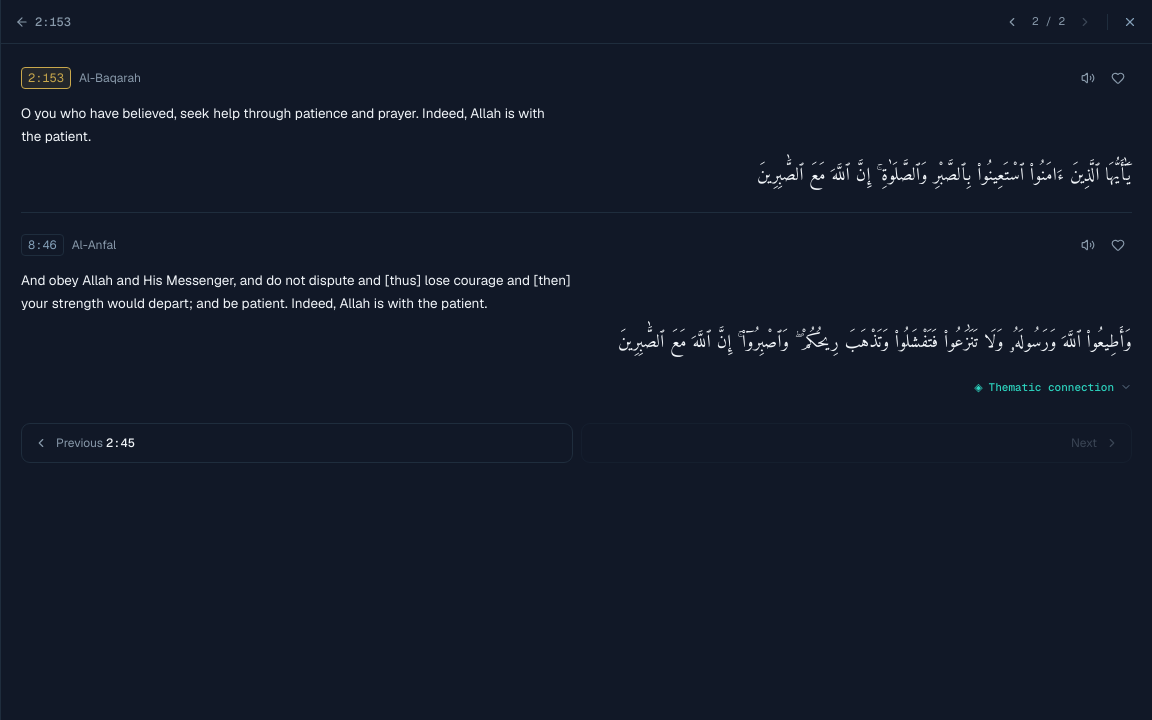
it: ContextSidebar — reading views › steps through connections with the arrow keys, the pager and the bottom buttons
The width and height of the screenshot is (1152, 720).
Expected: the text "2 / 2" is shown, [1032, 14, 1065, 28]
Expected: the text "And obey Allah and His Messenger, and do not dispute and [thus] lose courage and [then] your strength would depart; and " is shown, [21, 271, 571, 312]
Click the button named "Previous connection": [1012, 22] box [998, 8, 1026, 36]
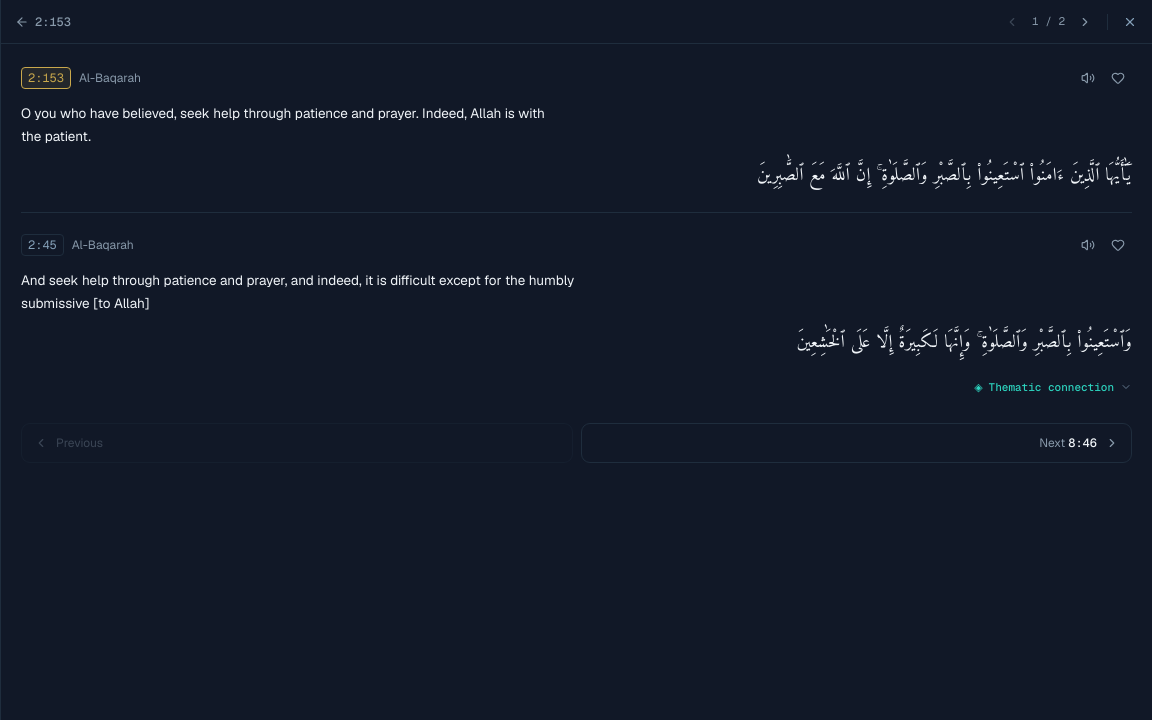
Expected: the text "1 / 2" is shown, [1032, 14, 1065, 28]
Expected: the button "Previous" is disabled, [21, 423, 572, 463]
Click the button "Next 8:46": [1052, 443] box [580, 423, 1132, 463]
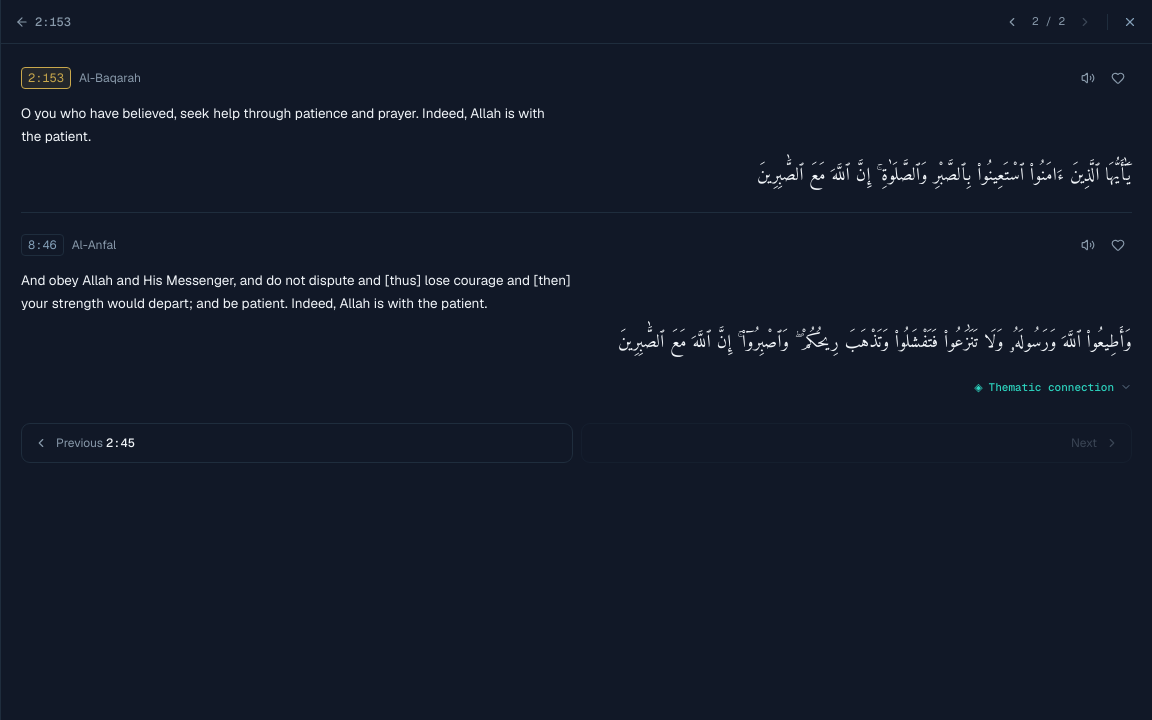
Expected: the text "2 / 2" is shown, [1032, 14, 1065, 28]
